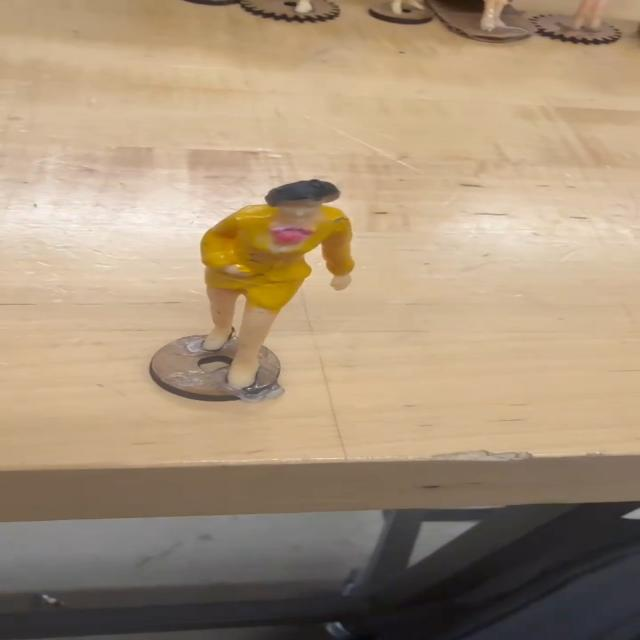Authorized: (180, 165, 368, 395)
